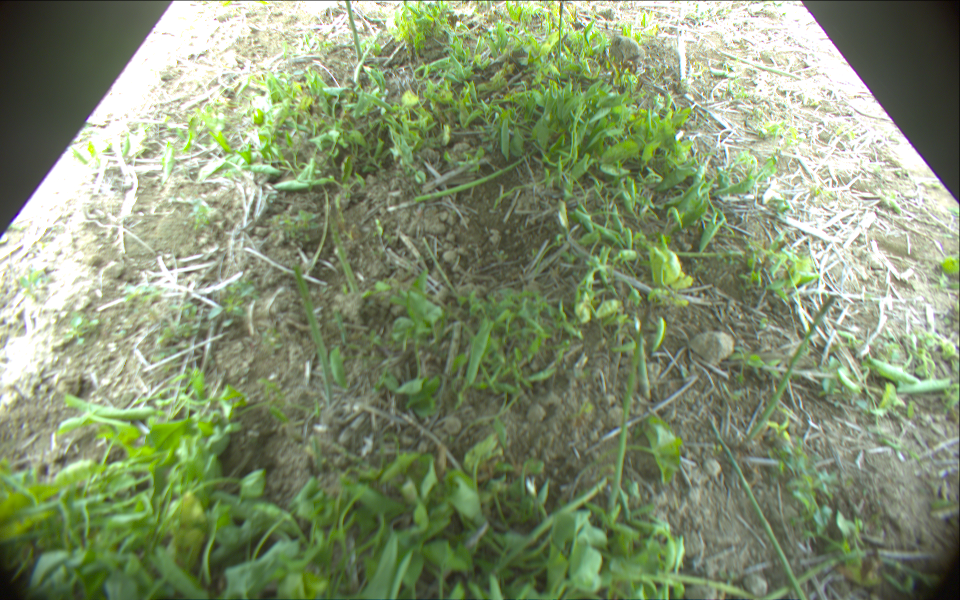aspa: (707, 416, 809, 598), (741, 293, 835, 447), (604, 305, 654, 519), (761, 550, 954, 600), (287, 248, 335, 391), (410, 149, 529, 203), (325, 203, 361, 293), (355, 24, 383, 88), (344, 1, 365, 62), (557, 1, 566, 61)
